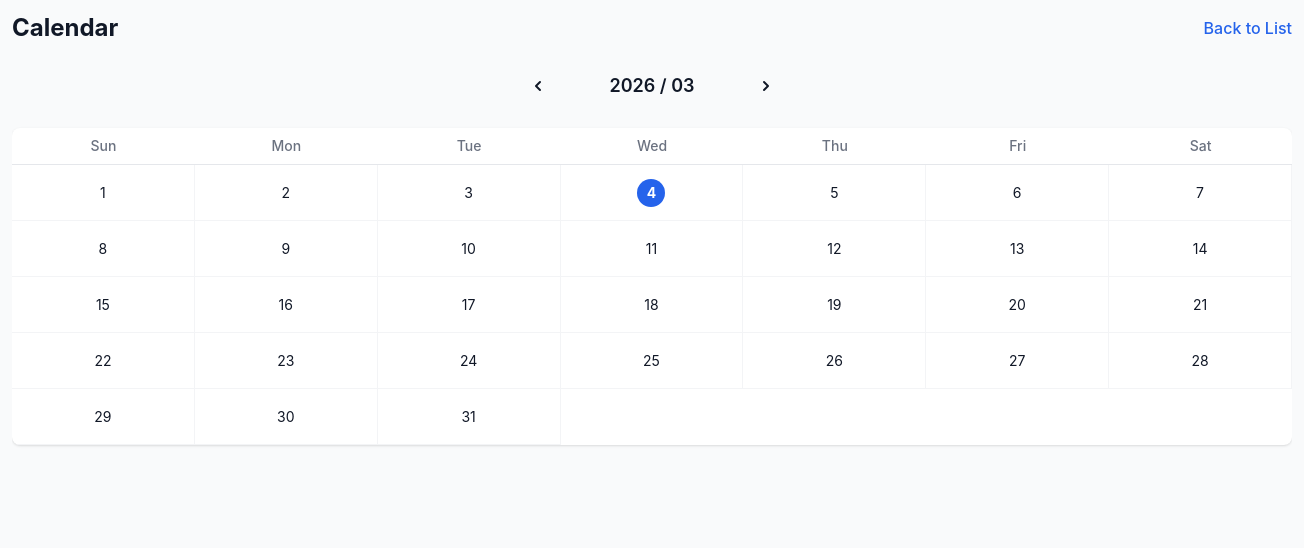
Test: CalendarPage › shows "No entries" for a date without entries
Click the button "1" at coordinates (103, 193), box [12,165,195,221]
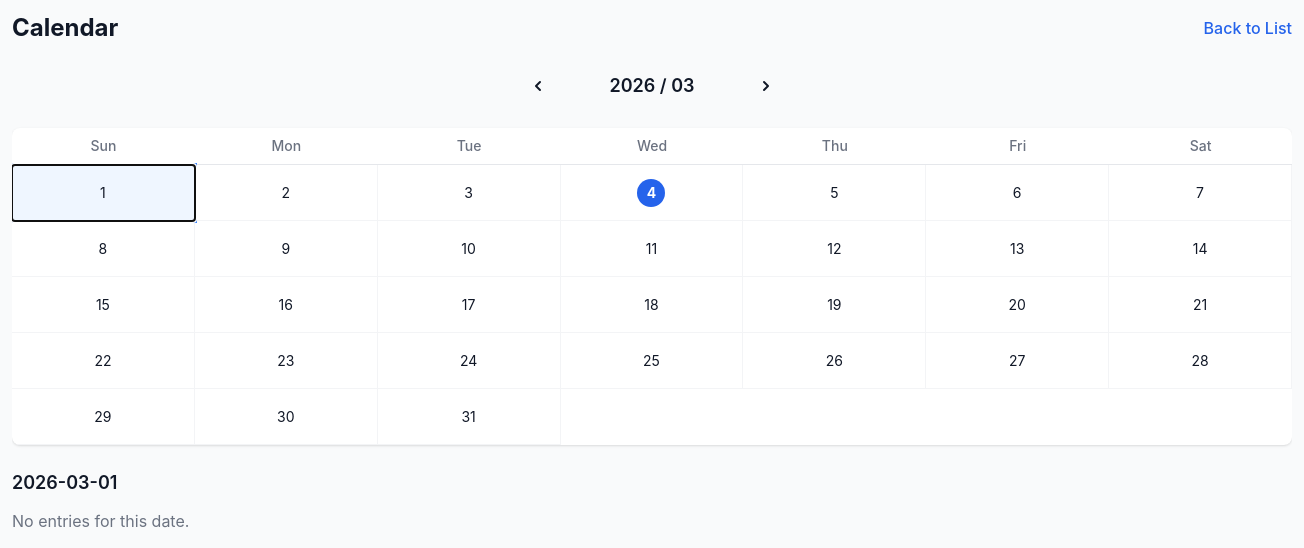
Expected: the text "No entries for this date." is shown, [12,511,189,531]
